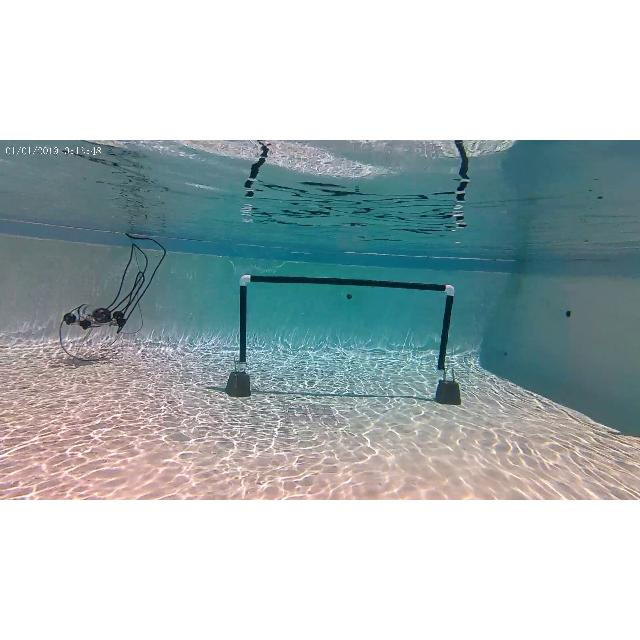prequal gate: (240, 274, 454, 372)
prequal gate leg l: (236, 270, 254, 378)
prequal gate leg r: (436, 272, 458, 380)
